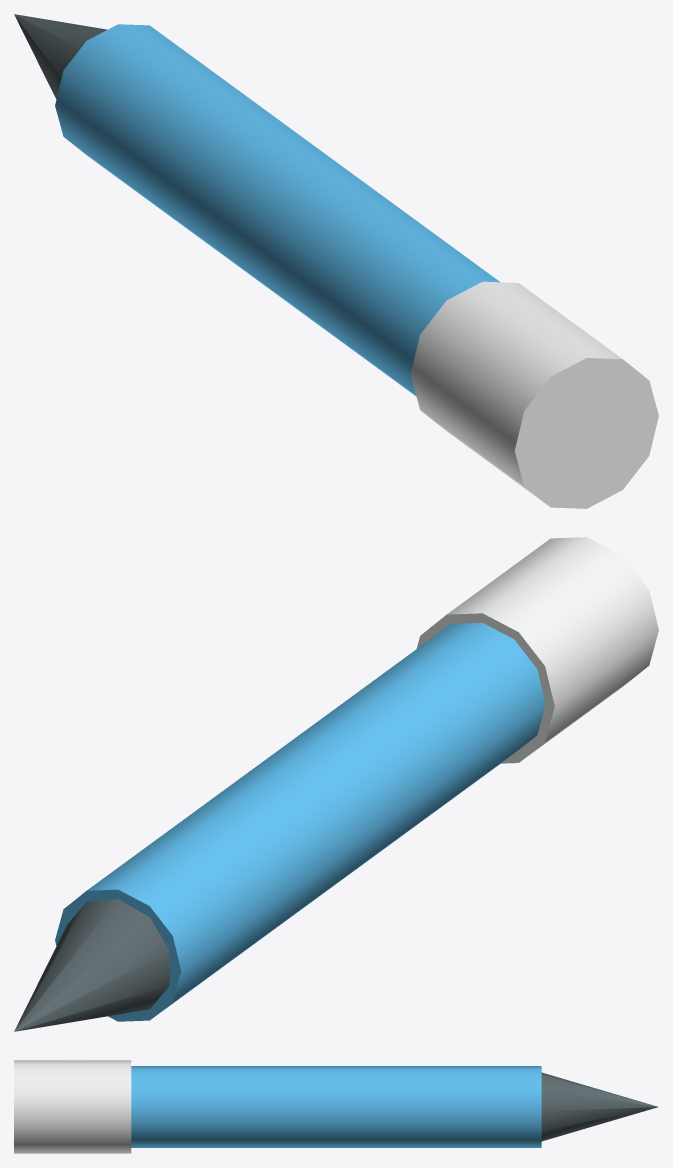
File: item_keceli_kalem.glb
The picture shows the model from 3 angles, top to bottom: view 1: azimuth 30°, elevation 25°; view 2: azimuth 150°, elevation 25°; view 3: azimuth 270°, elevation 25°; orthographic projection. The views are drawn at different scales.
Visible parts, largest first — view 1: keceli_kalem; view 2: keceli_kalem; view 3: keceli_kalem.
Part boxes in pixels (x1,y1,x2,y2): keceli_kalem: (14, 14, 658, 508); keceli_kalem: (14, 537, 658, 1031); keceli_kalem: (14, 1060, 657, 1153).
Size of the model in its own units: 0.032 by 0.032 by 0.22.
